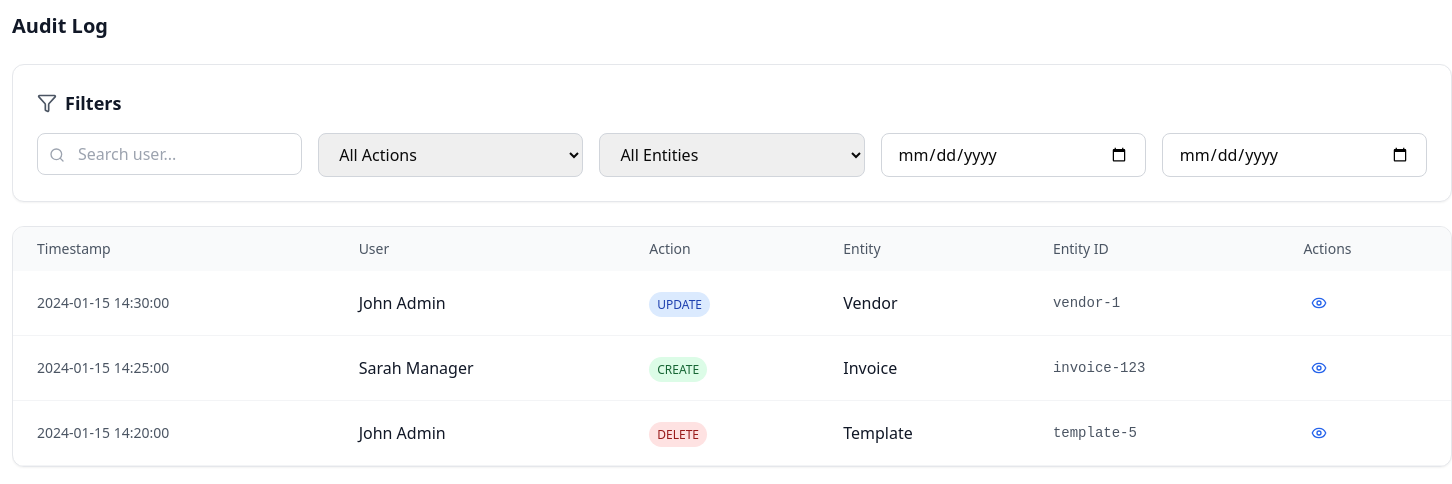
Scenario: AuditLog › filters by user name
Type "Sarah" into the field with placeholder "Search user..." at (170, 154), box [37, 133, 302, 175]
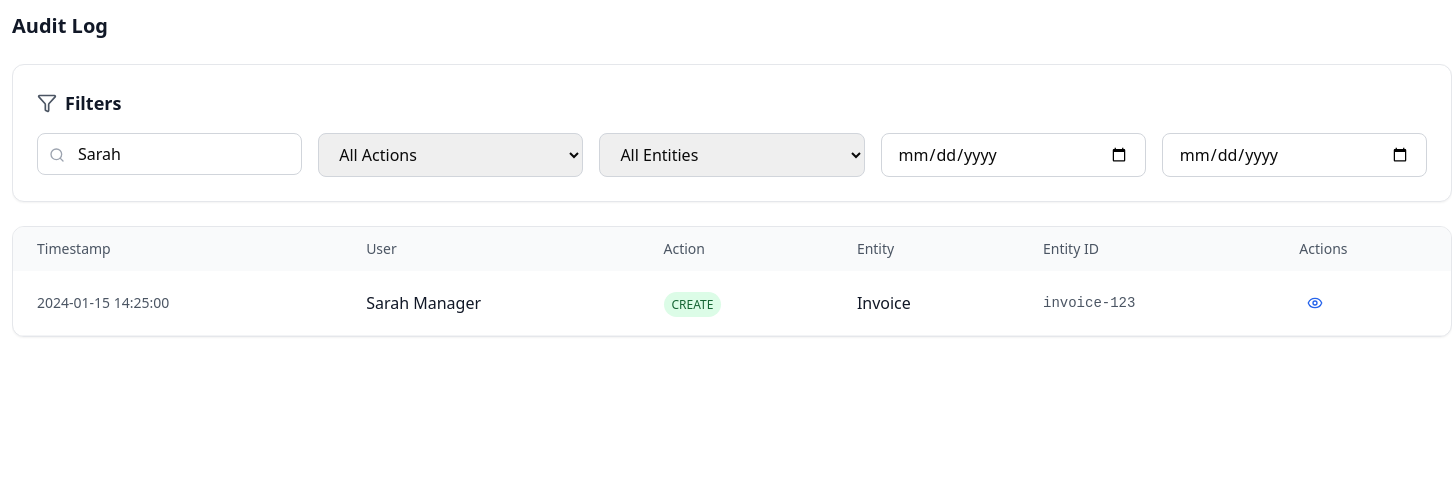
Expected: the row "2024-01-15 14:25:00 Sarah Manager CREATE invoice invoice-123" is shown, [13, 271, 1451, 336]
Result: the cell no longer shows "John Admin"
